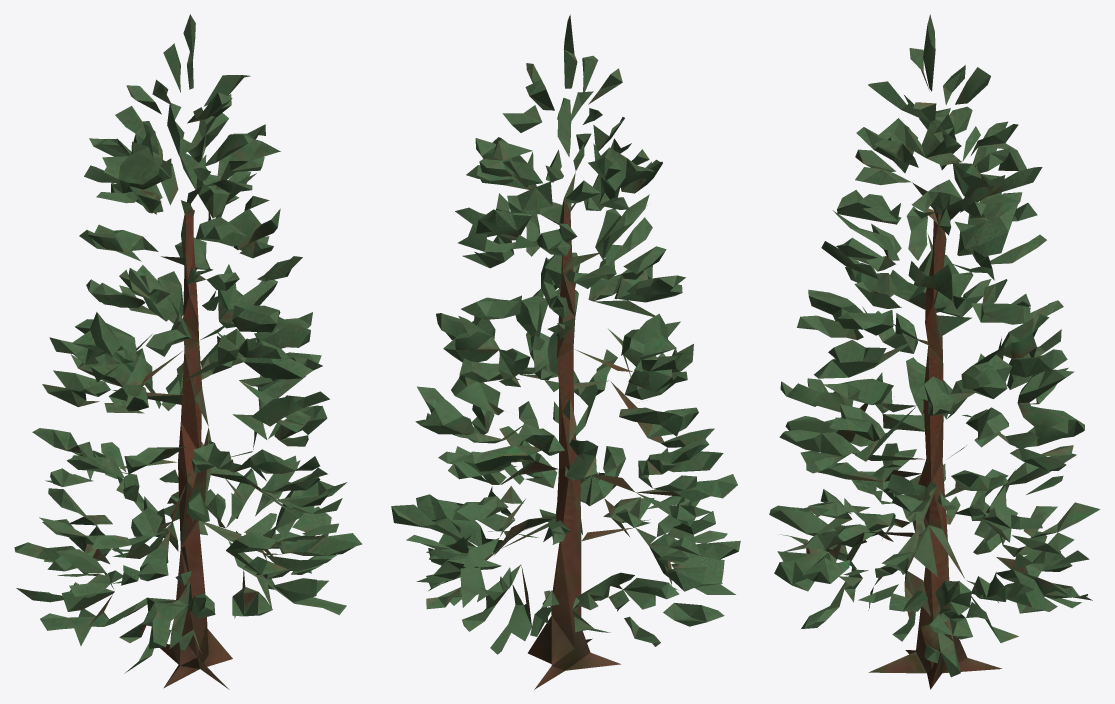
The model's file is tree2.glb.
3 views of the same model, side by side, from view 1: azimuth 30°, elevation 25°; view 2: azimuth 150°, elevation 25°; view 3: azimuth 270°, elevation 25° (orthographic).
Visible parts, largest first — view 1: Mesh_0; view 2: Mesh_0; view 3: Mesh_0.
Part boxes in pixels (x1,y1,x2,y2): Mesh_0: (14,14,362,689); Mesh_0: (391,14,740,689); Mesh_0: (769,14,1100,689).
Size of the model in its own units: 0.8715 by 1.85 by 0.8501.
1 material, 1 textured.
